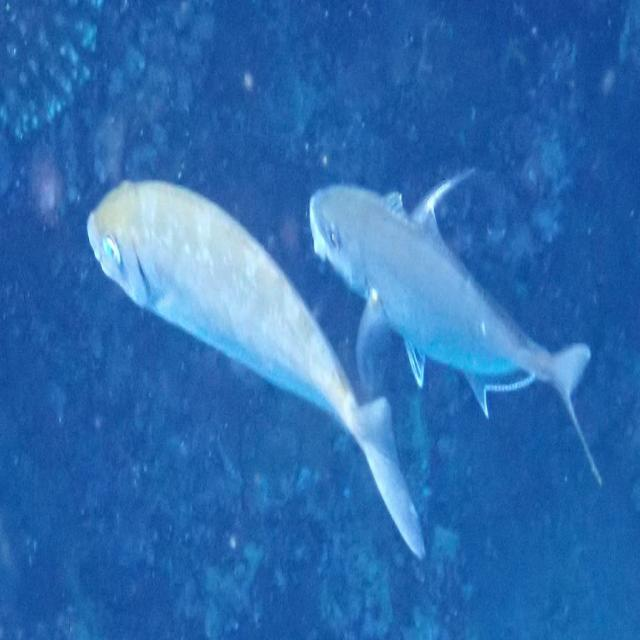Sokar Baligi: (82, 168, 426, 564)
